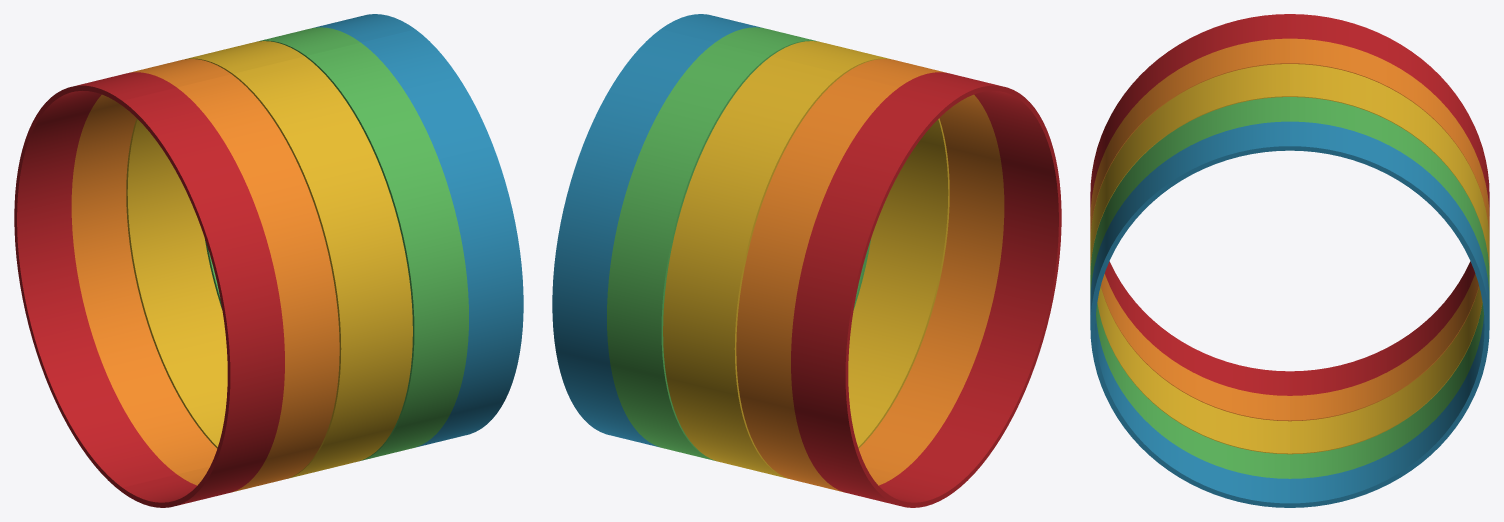
File: gland_packing_assembly_pressure.glb
The picture shows the model from 3 angles, left to right: view 1: azimuth 30°, elevation 25°; view 2: azimuth 150°, elevation 25°; view 3: azimuth 270°, elevation 25°; orthographic projection. The views are drawn at different scales.
Visible parts, largest first — view 1: pressure__front, pressure__back; view 2: pressure__back, pressure__front; view 3: pressure__back, pressure__front.
Part boxes in pixels (x1=…): pressure__front: x1=122, y1=29, x2=523, y2=507; pressure__back: x1=14, y1=14, x2=414, y2=491; pressure__back: x1=552, y1=29, x2=953, y2=507; pressure__front: x1=661, y1=14, x2=1061, y2=491; pressure__back: x1=1290, y1=14, x2=1489, y2=507; pressure__front: x1=1090, y1=14, x2=1289, y2=507.
Bounding box in the file's own units: 0.094 × 0.12 × 0.12.
